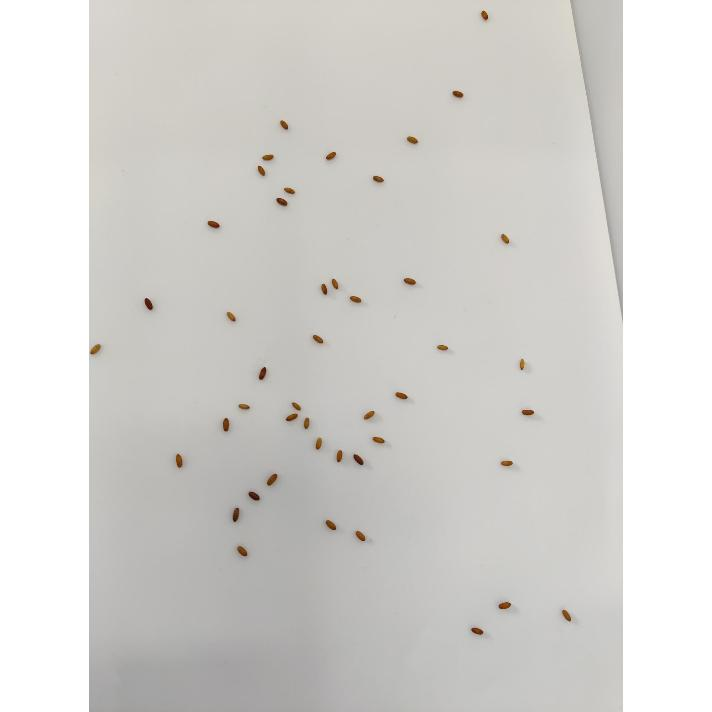pupae: (234, 400, 254, 414), (360, 408, 380, 422), (350, 452, 366, 468), (558, 608, 574, 624), (265, 472, 279, 490), (172, 451, 184, 471), (450, 86, 464, 102), (142, 296, 156, 312), (234, 544, 250, 558), (352, 530, 368, 544), (468, 626, 486, 638), (245, 490, 261, 503), (231, 504, 241, 524), (494, 600, 514, 610), (324, 148, 338, 162), (405, 134, 419, 148), (372, 171, 385, 186), (330, 276, 342, 292), (395, 390, 411, 402), (283, 412, 299, 424), (323, 520, 339, 532), (207, 218, 222, 230), (332, 449, 344, 464), (221, 417, 231, 434), (274, 196, 288, 208), (500, 232, 512, 246), (402, 276, 416, 288), (312, 334, 326, 346), (226, 311, 238, 325), (89, 342, 101, 356), (290, 400, 304, 412), (372, 434, 386, 446), (499, 459, 515, 469), (436, 342, 452, 352), (258, 365, 268, 381), (278, 119, 290, 131), (282, 185, 296, 195), (257, 165, 267, 179), (260, 152, 274, 162), (522, 408, 536, 418), (314, 436, 324, 450), (320, 282, 329, 296), (350, 294, 362, 304), (519, 358, 527, 372), (303, 416, 311, 430), (481, 10, 490, 21)
